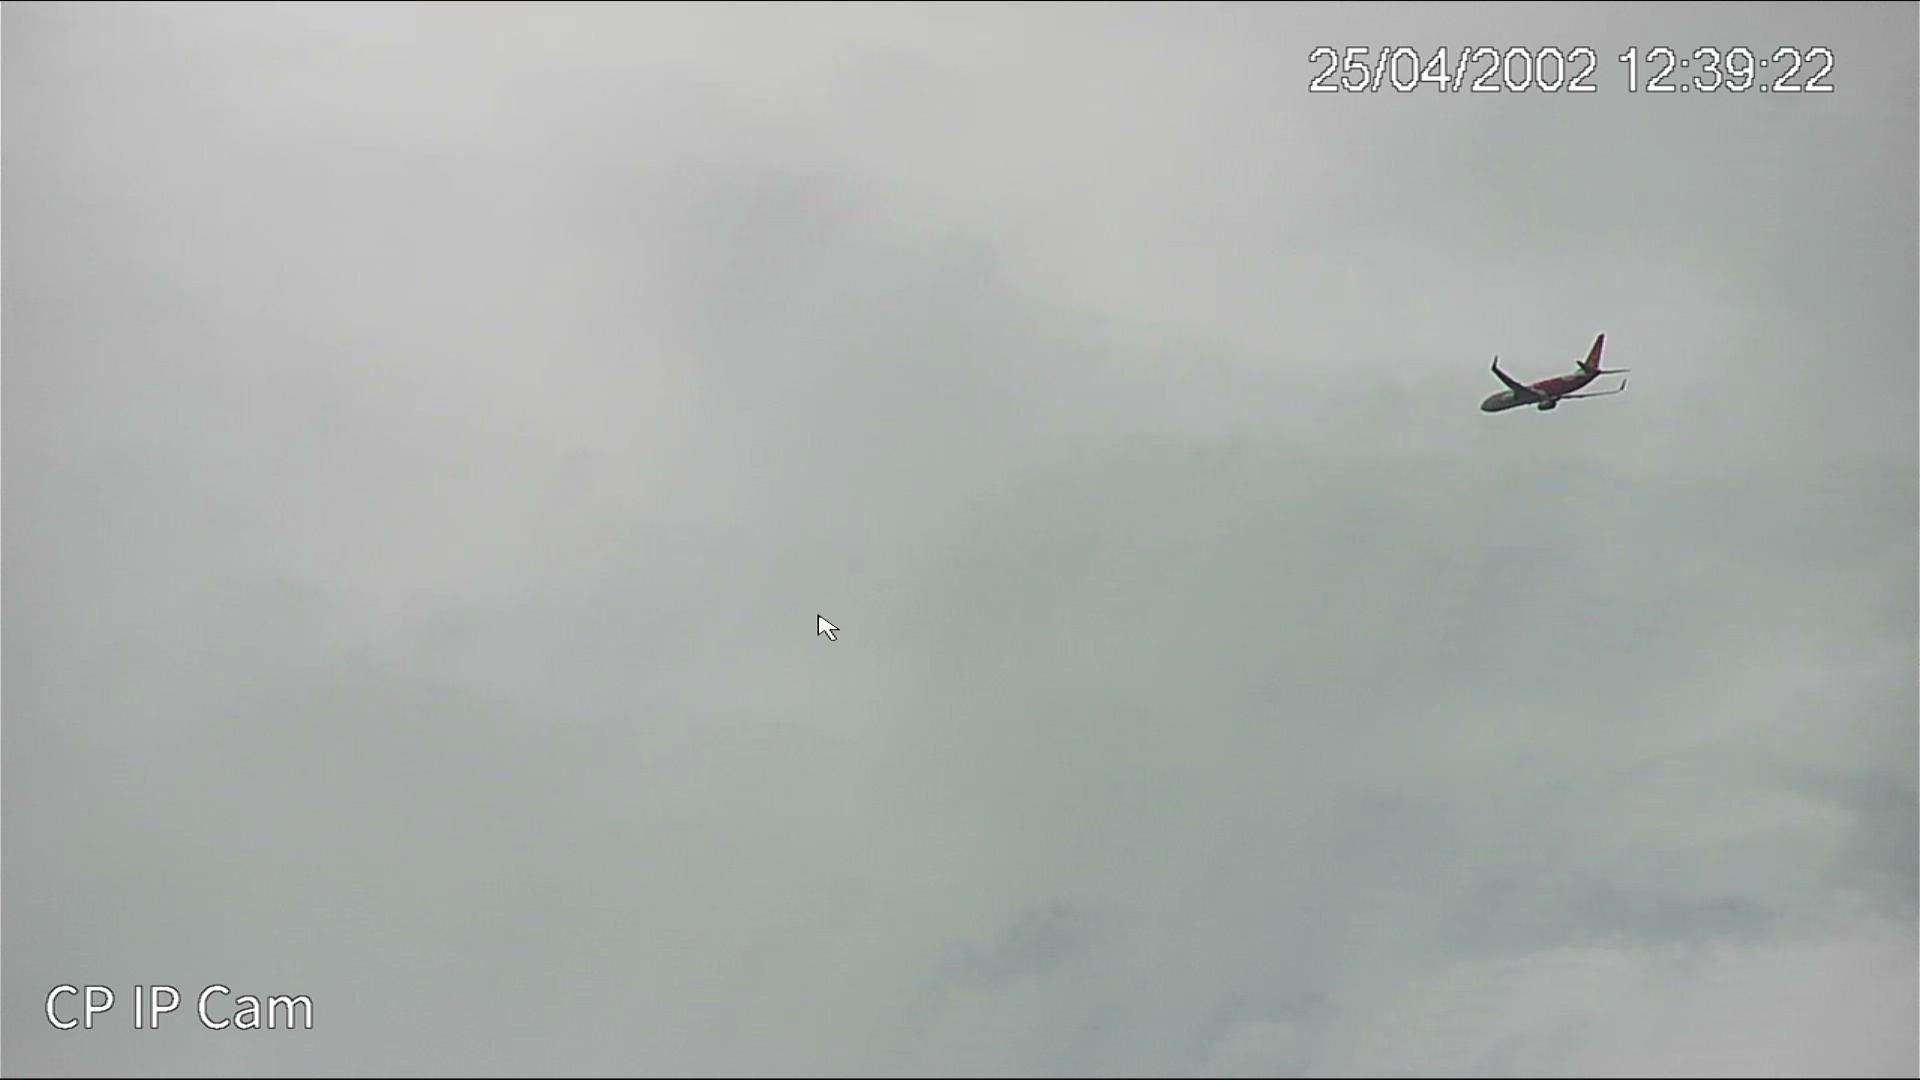SU_30: (1482, 326, 1629, 418)
